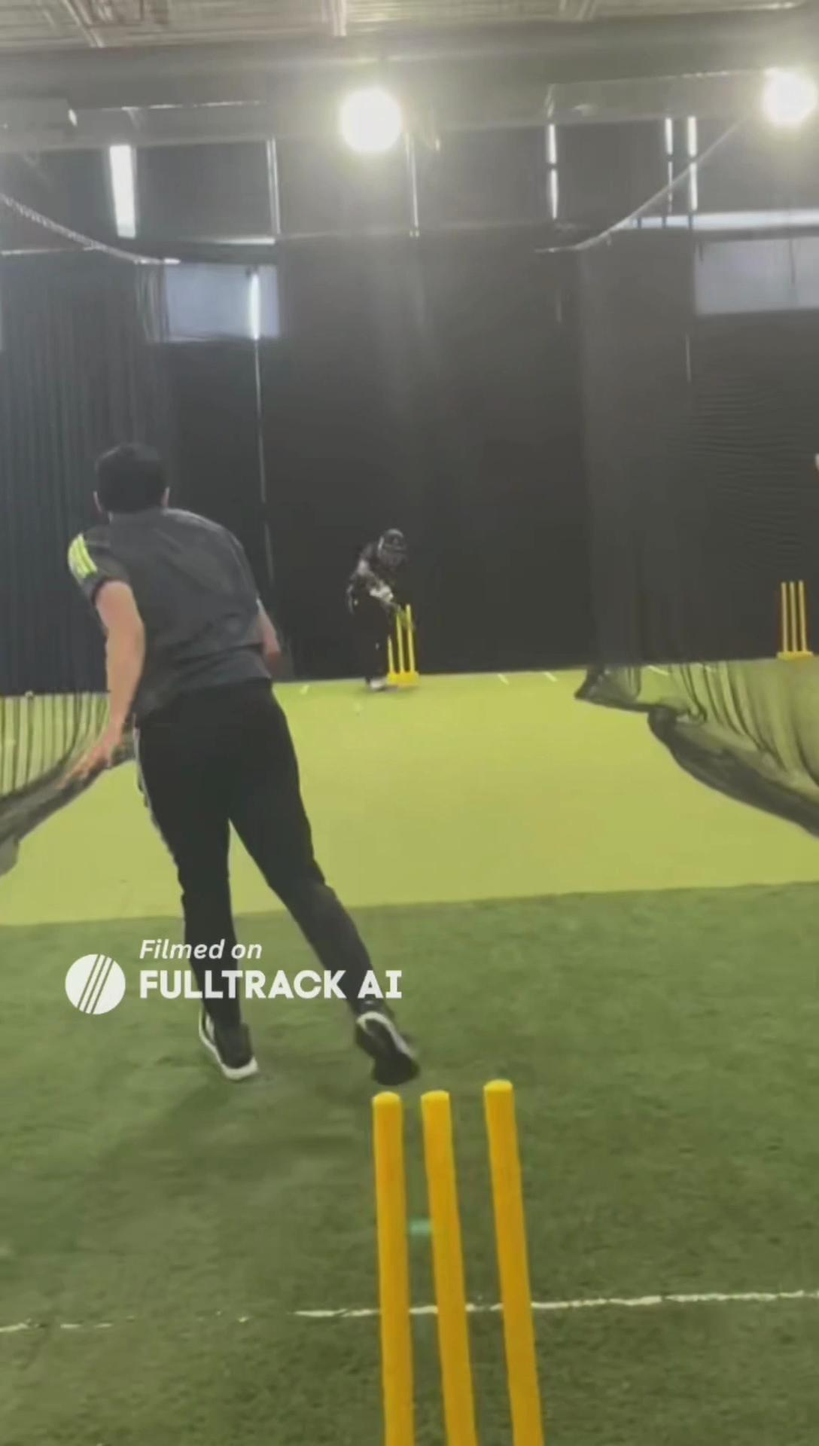ball: (349, 702, 367, 719)
